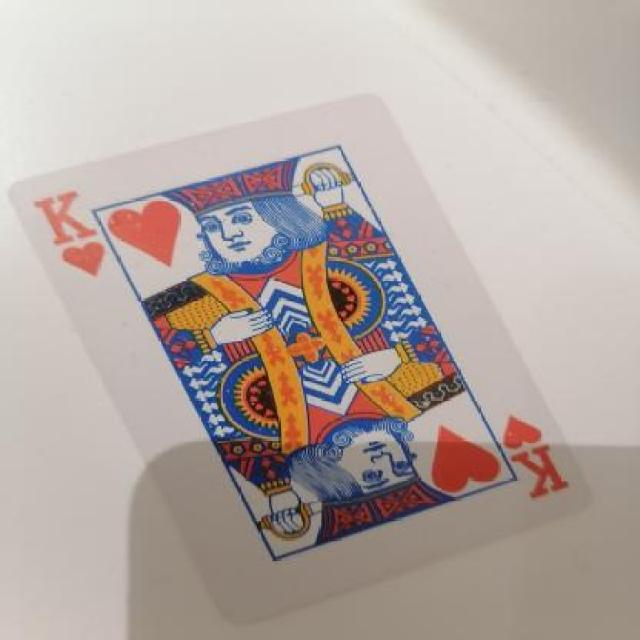KH: (468, 397, 584, 501), (22, 178, 108, 288)
